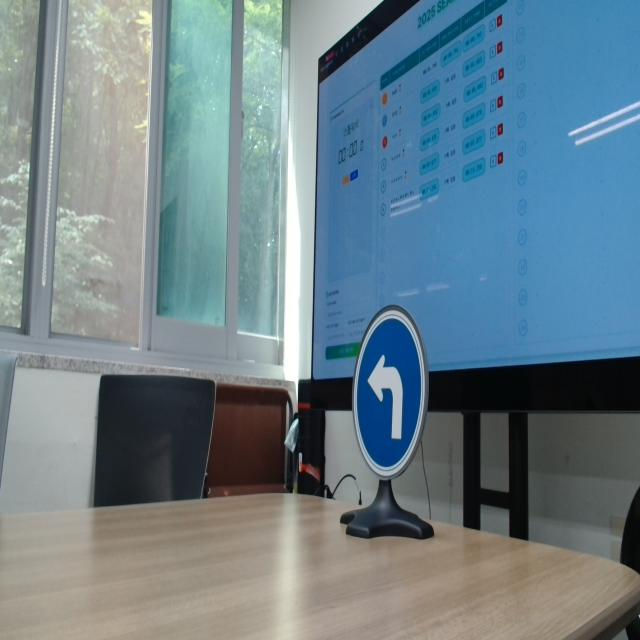left_direction: (351, 298, 441, 489)
